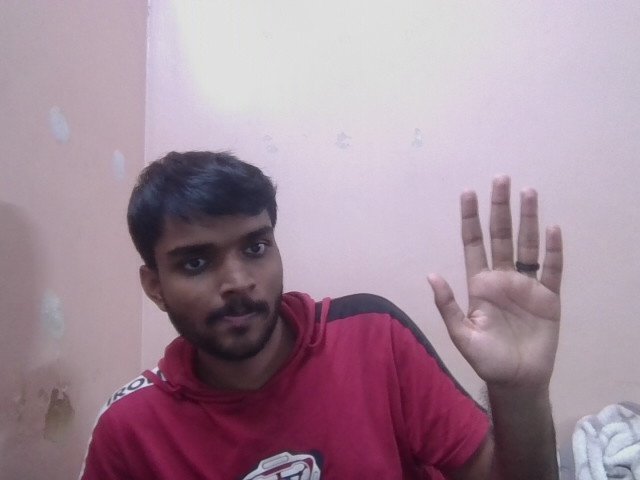Hello: (431, 171, 582, 388)
